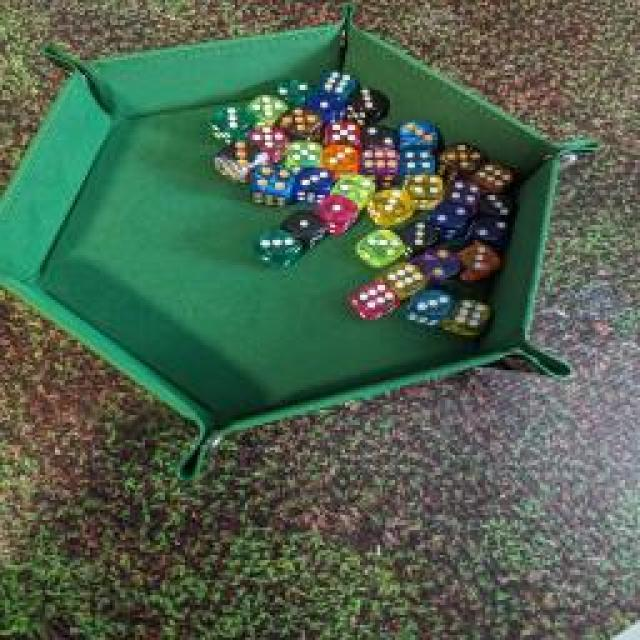dice_1: (275, 205, 333, 250), (309, 194, 359, 236)
dice_2: (330, 173, 382, 215), (412, 246, 462, 289), (425, 195, 470, 237), (264, 75, 314, 105), (354, 121, 394, 151)
dice_3: (353, 225, 415, 270), (214, 136, 264, 189), (334, 80, 396, 122), (399, 286, 456, 329), (470, 189, 518, 239), (448, 241, 510, 279), (392, 114, 448, 156), (252, 228, 306, 270), (206, 98, 254, 140), (365, 186, 417, 224), (292, 166, 340, 204), (395, 219, 443, 256), (318, 143, 368, 175)
dice_4: (245, 161, 303, 209), (395, 168, 453, 214), (398, 141, 442, 179)
dice_5: (242, 121, 298, 164), (270, 107, 325, 145), (235, 92, 290, 128), (435, 138, 490, 174), (324, 116, 364, 149)
dice_6: (349, 278, 401, 324), (375, 259, 427, 301), (444, 296, 494, 336), (467, 161, 525, 194), (308, 65, 354, 103), (359, 142, 399, 178)
